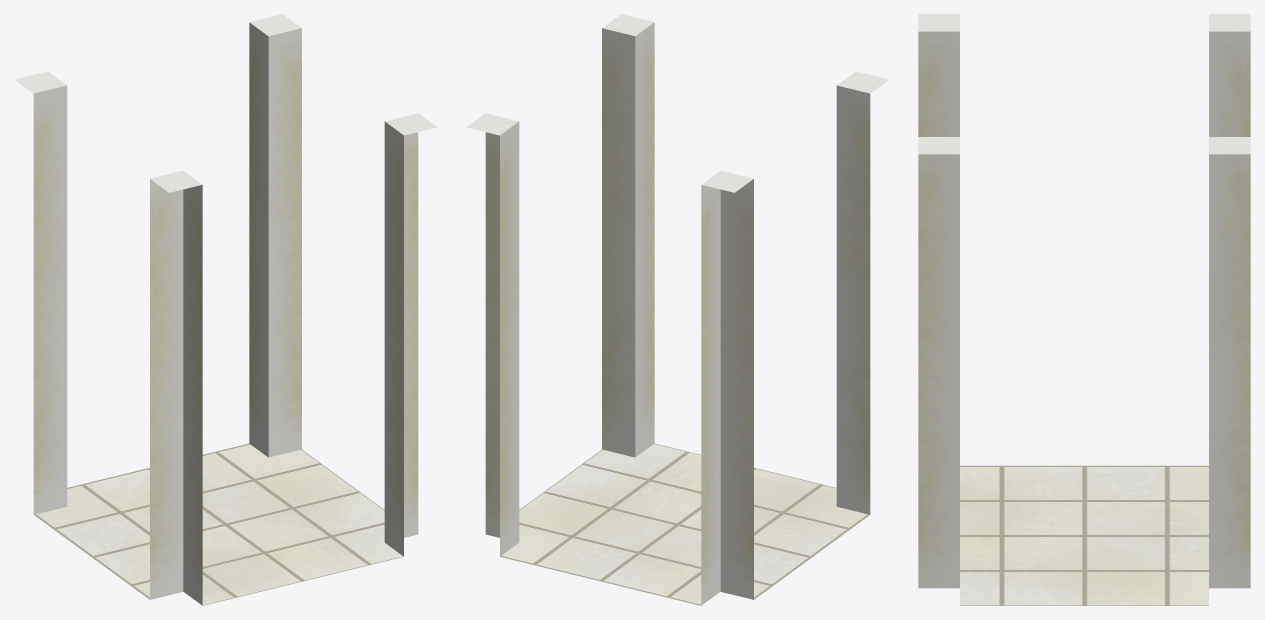
The model's file is maze_4way.FBX.
The picture shows the model from 3 angles, left to right: view 1: azimuth 30°, elevation 25°; view 2: azimuth 150°, elevation 25°; view 3: azimuth 270°, elevation 25°; orthographic projection. The views are drawn at different scales.
Parts seen in each view (by area): view 1: Plane01; view 2: Plane01; view 3: Plane01.
Part boxes in pixels (x1=…): Plane01: x1=14, y1=14, x2=437, y2=605; Plane01: x1=466, y1=14, x2=889, y2=605; Plane01: x1=918, y1=14, x2=1250, y2=605.
Bounding box in the file's own units: 32 × 48 × 32.
